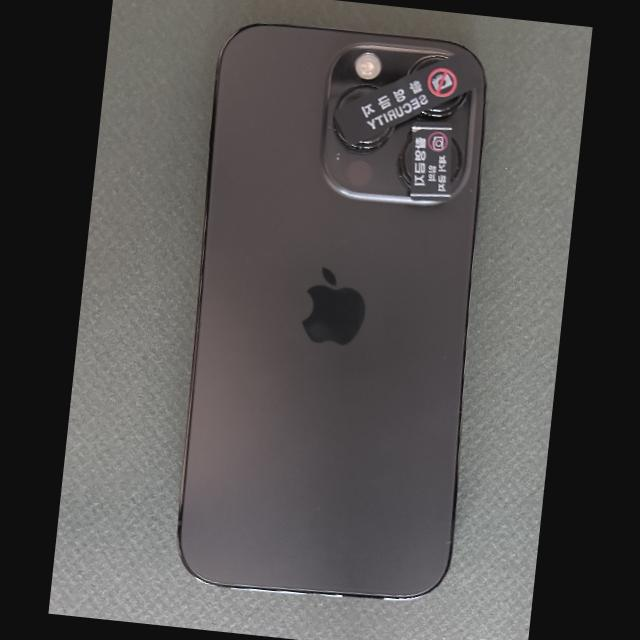lens: (420, 91, 466, 117), (350, 124, 393, 150), (397, 140, 410, 186)
phone: (177, 25, 484, 598)
sticker: (331, 54, 476, 145), (410, 122, 452, 201)
